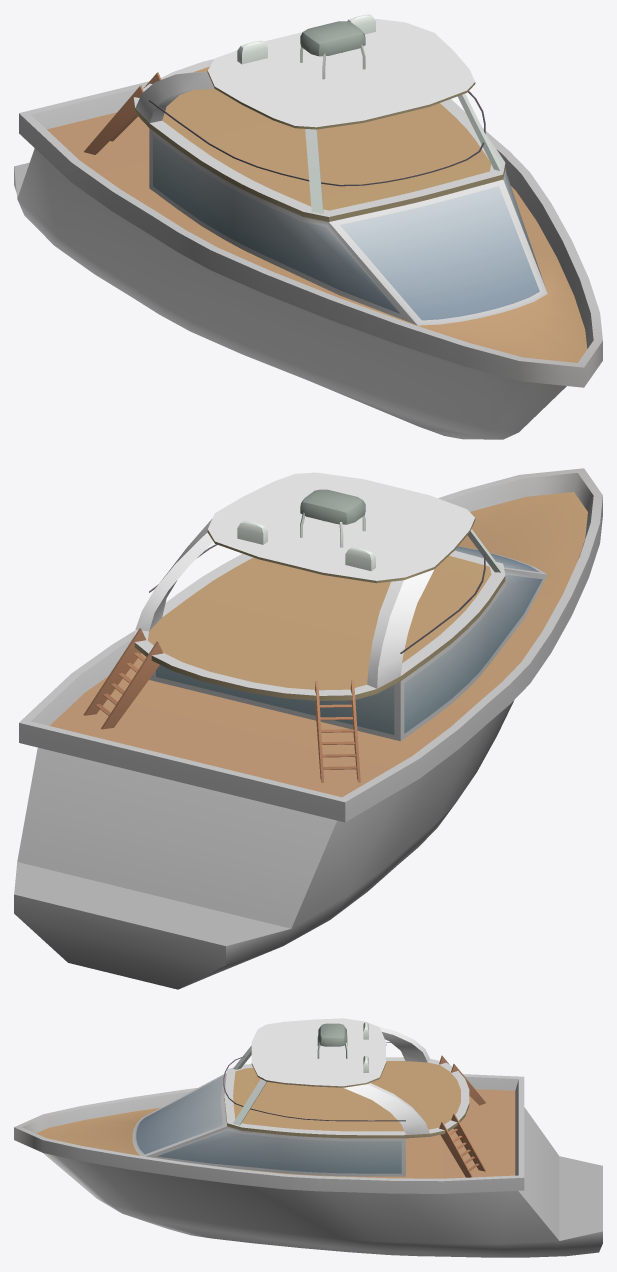
File: YachtSmall_Yacht_C.fbx
The picture shows the model from 3 angles, top to bottom: view 1: azimuth 30°, elevation 25°; view 2: azimuth 150°, elevation 25°; view 3: azimuth 270°, elevation 25°; orthographic projection. The views are drawn at different scales.
Parts seen in each view (by area): view 1: YachtSmall_Yacht_C; view 2: YachtSmall_Yacht_C; view 3: YachtSmall_Yacht_C.
Part boxes in pixels (x1=…): YachtSmall_Yacht_C: x1=14, y1=14, x2=602, y2=439; YachtSmall_Yacht_C: x1=14, y1=468, x2=602, y2=989; YachtSmall_Yacht_C: x1=14, y1=1018, x2=602, y2=1257.
Bounding box in the file's own units: 324 × 289 × 747.
